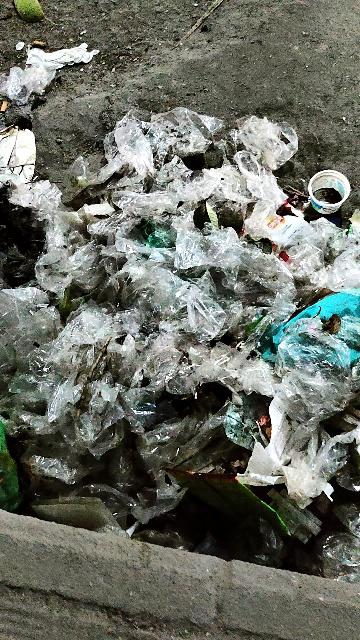polythene: (0, 158, 360, 515)
